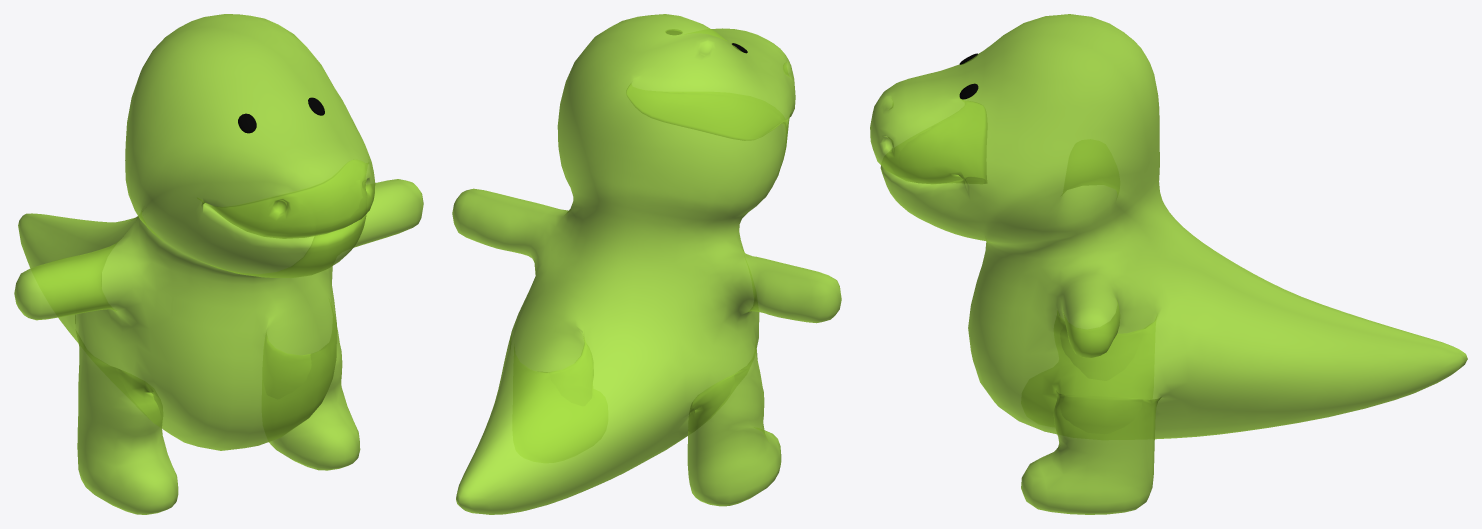
Rendered from Mochi 20.glb.
3 views of the same model, side by side, from view 1: azimuth 30°, elevation 25°; view 2: azimuth 150°, elevation 25°; view 3: azimuth 270°, elevation 25° (orthographic). The views are drawn at different scales.
Visible parts, largest first — view 1: Mochi 20, Ojos M20; view 2: Mochi 20; view 3: Mochi 20.
Boxes of the visible parts, x1,y1,x2,y2 form: Mochi 20: (14, 14, 423, 514); Ojos M20: (238, 97, 324, 133); Mochi 20: (452, 14, 841, 514); Mochi 20: (870, 14, 1467, 514).
Size of the model in its own units: 3.21 by 3.48 by 4.3.
